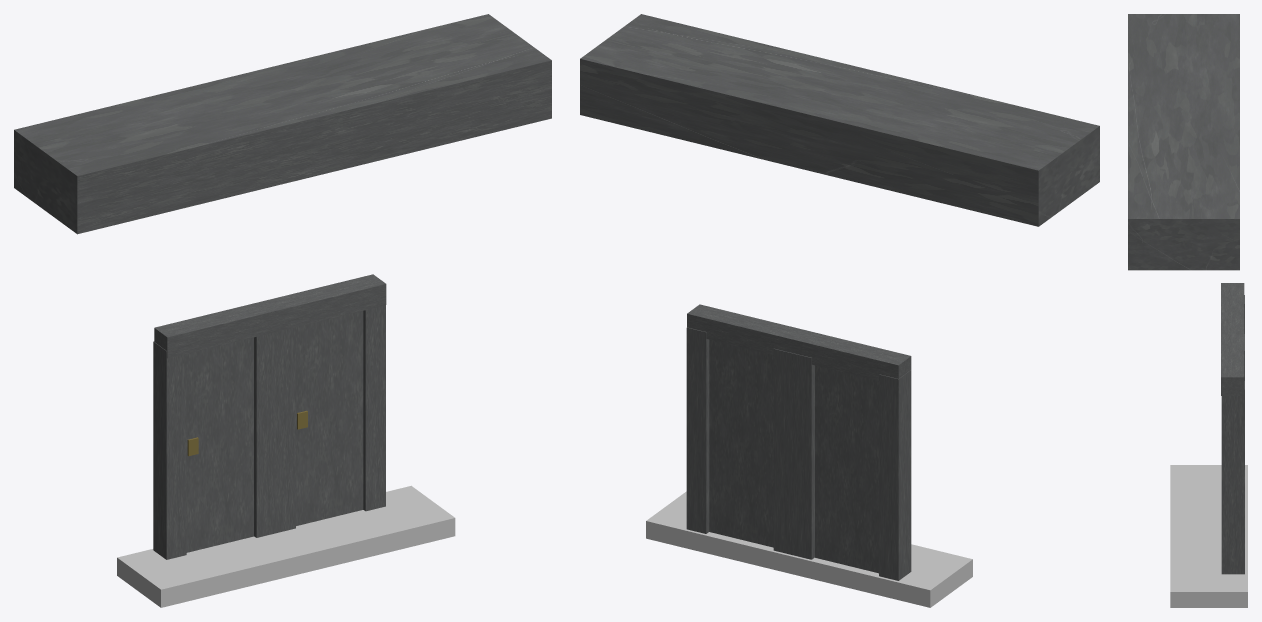
Rendered from sign5.obj.
3 renders of one model, left to right at view 1: azimuth 30°, elevation 25°; view 2: azimuth 150°, elevation 25°; view 3: azimuth 270°, elevation 25°, orthographic. The views are drawn at different scales.
Visible parts, largest first — view 1: sign5_sign5_Material.001, sign5_sign5_Nuovo.1, sign5_sign5_None; view 2: sign5_sign5_Material.001, sign5_sign5_Nuovo.1, sign5_sign5_None; view 3: sign5_sign5_Material.001, sign5_sign5_None, sign5_sign5_Nuovo.1.
Part boxes in pixels (x1,y1,x2,y2): sign5_sign5_Material.001: (14,14,551,234); sign5_sign5_Nuovo.1: (153,274,386,559); sign5_sign5_None: (117,485,455,607); sign5_sign5_Material.001: (580,14,1099,226); sign5_sign5_Nuovo.1: (686,304,911,580); sign5_sign5_None: (646,491,972,607); sign5_sign5_Material.001: (1128,14,1239,270); sign5_sign5_None: (1170,465,1247,607); sign5_sign5_Nuovo.1: (1221,283,1244,574).
Bounding box in the file's own units: 4.71 × 4.51 × 1.17.
4 materials, 2 textured.
